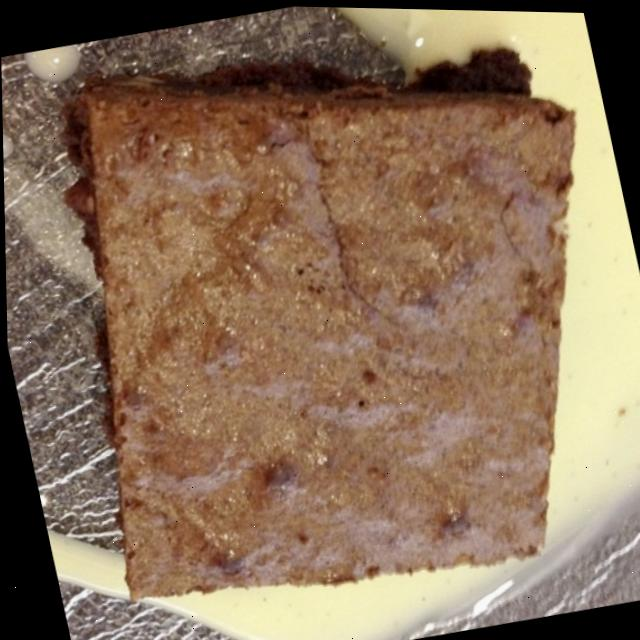蛋糕甜品: (34, 1, 640, 640)
